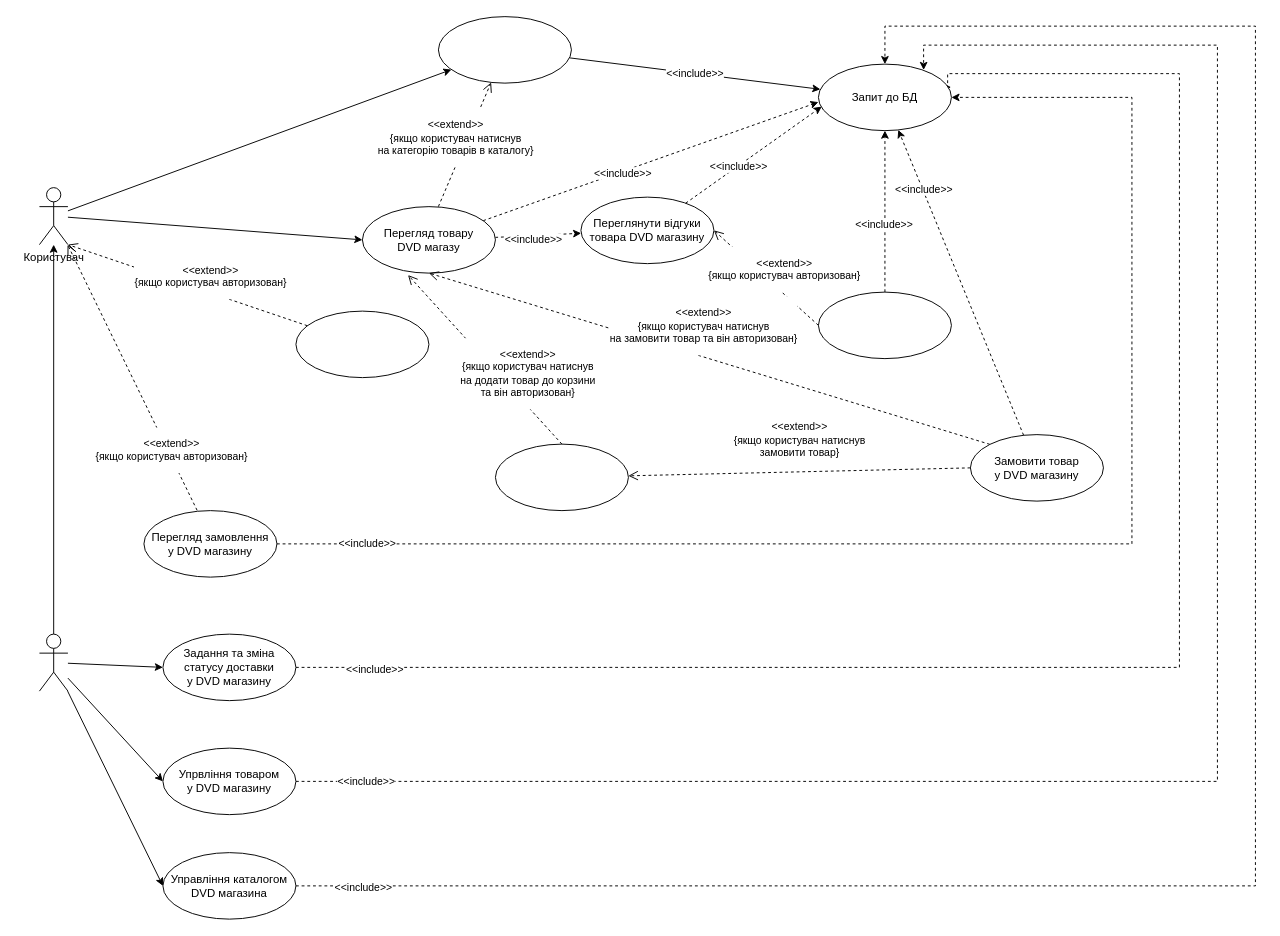
Image size: 1280x936. Some labels were removed from this diagram. Each missing label, with the centre of its shape:
"Адміністратор" goes at (53,662).
"Добавити товар до корзини DVD магазину" goes at (561,477).
"Написати відгук тоару DVD магазину" goes at (884,325).
"Перегляд каталогу DVD магазину" goes at (504,49).
"Перегляд корзини вибрних товрів DVD магазину" goes at (362,344).
